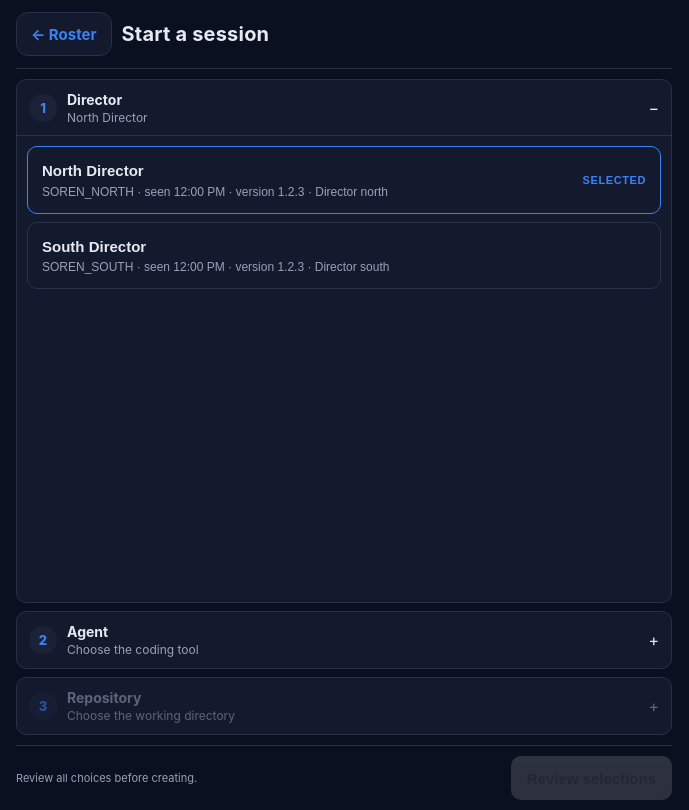
it: mobile new session › reports an agent loading error and retries before allowing selection
Click the button with aria-label "Select Director North Director" at (93, 170), box [28, 147, 660, 212]
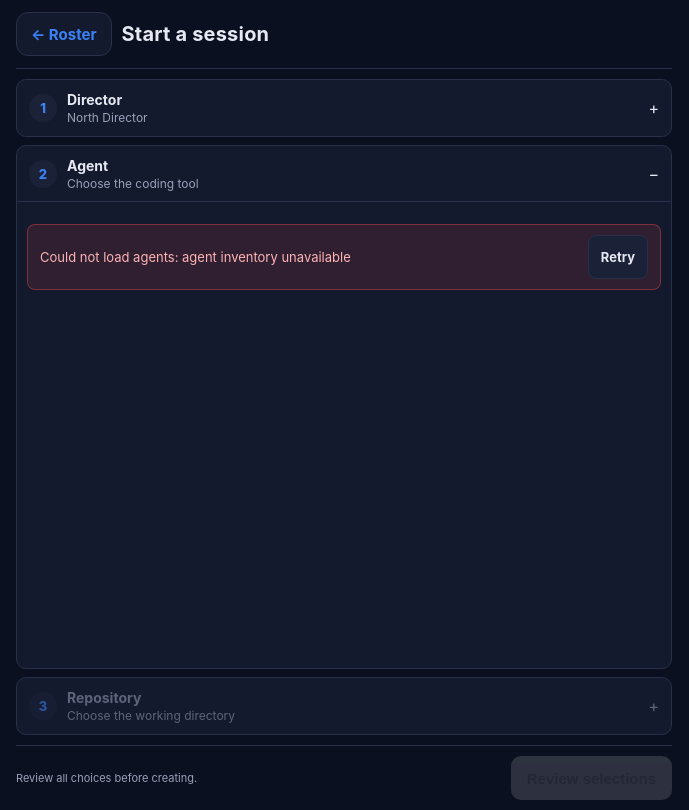
expect the button "Review selections" is disabled: met, box [511, 756, 672, 800]
expect the message shows "Could not load agents: agent inventory unavailable": met, box [27, 224, 661, 290]
Click the button "Retry" at (618, 257), box [588, 235, 648, 279]
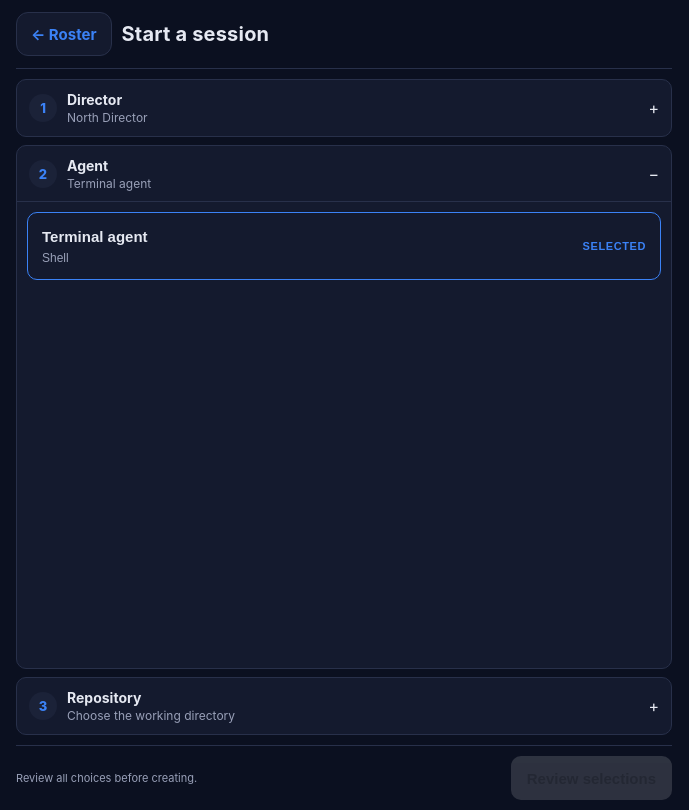
expect the button with aria-label "Select agent Terminal agent" is shown: met, box [28, 213, 660, 278]
